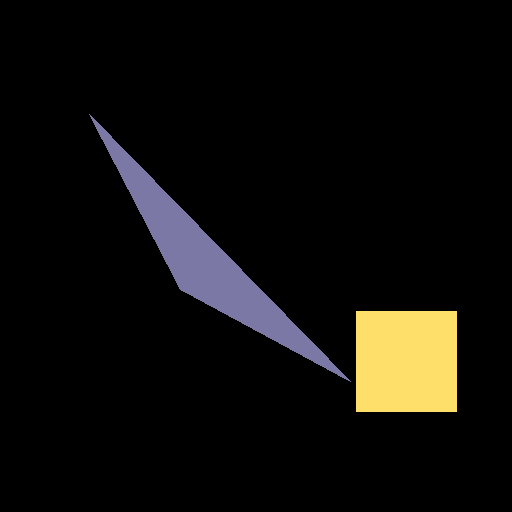square: (356, 311, 456, 411)
triangle: (89, 114, 350, 381)
